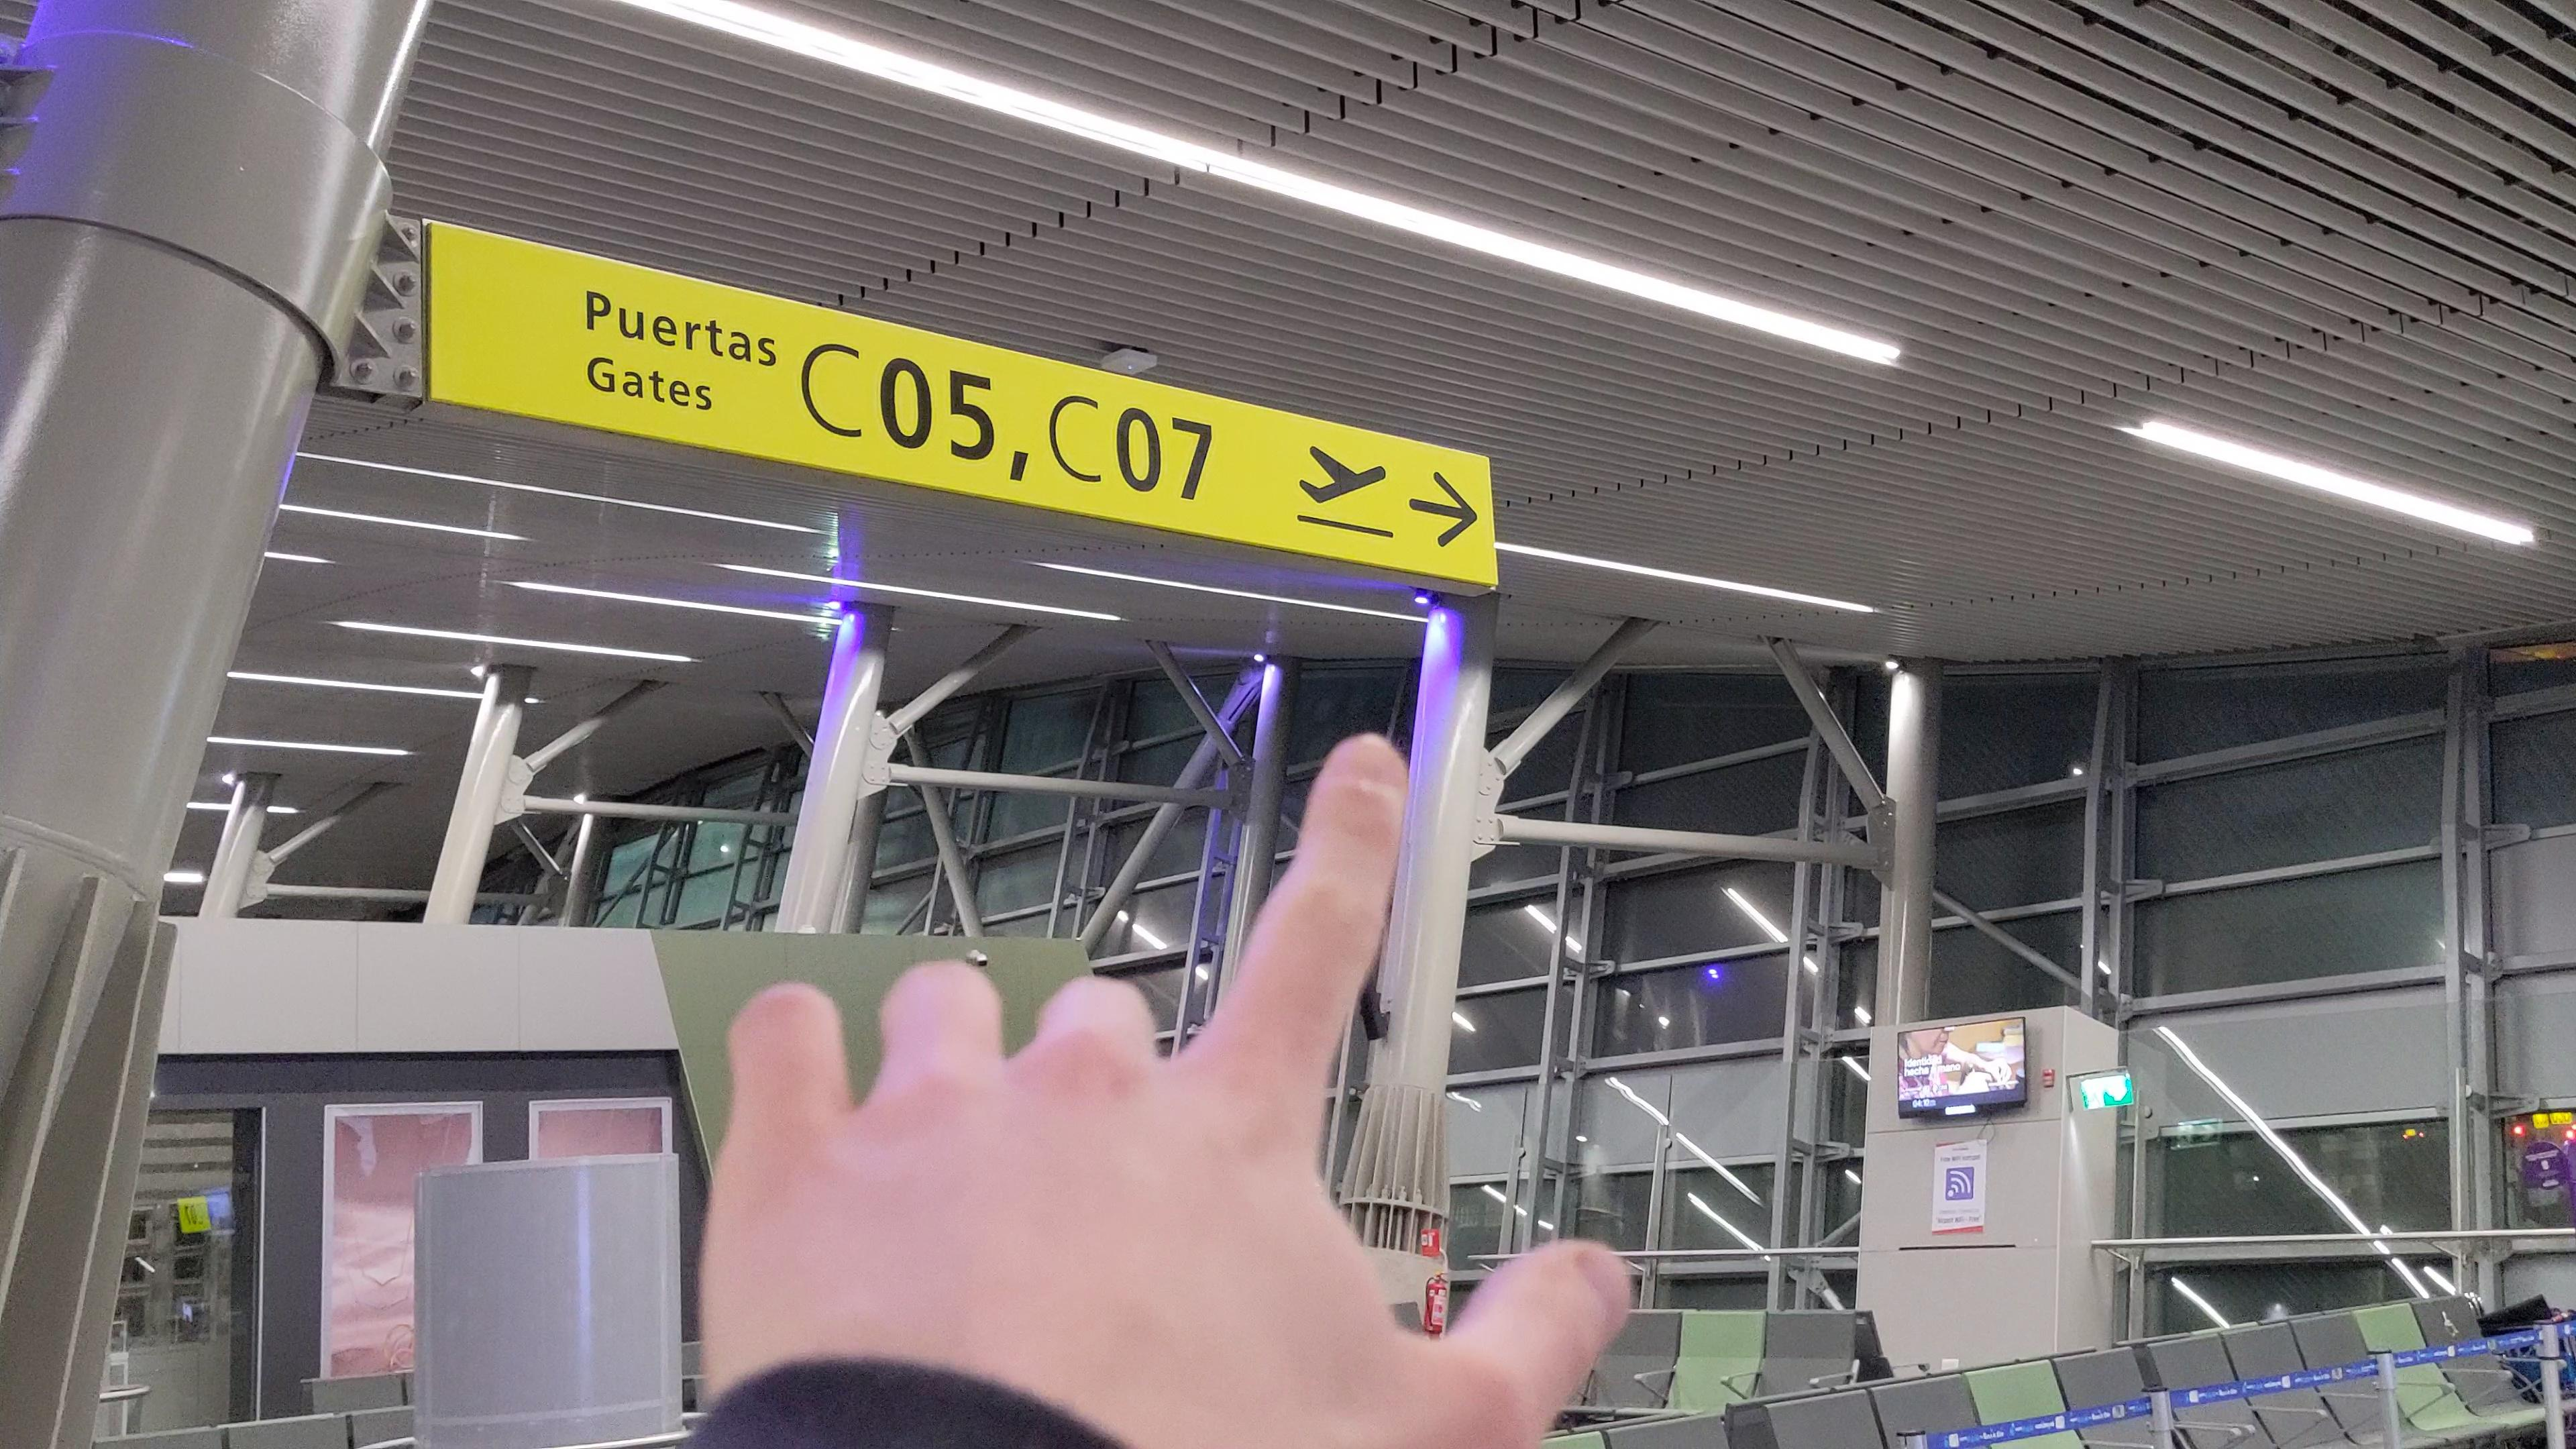airplane symbol: (1299, 441, 1389, 506)
emergency right arrow: (2192, 1122, 2220, 1143)
thin right arrow: (1405, 467, 1479, 550)
